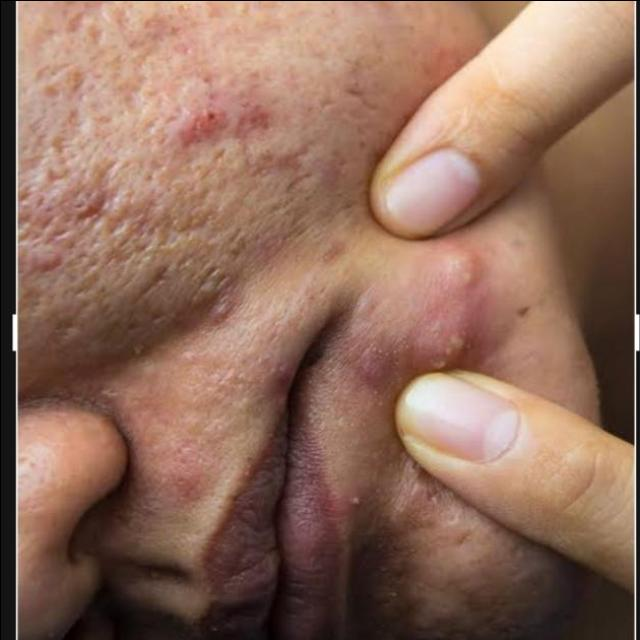nodule: (405, 232, 502, 379)
